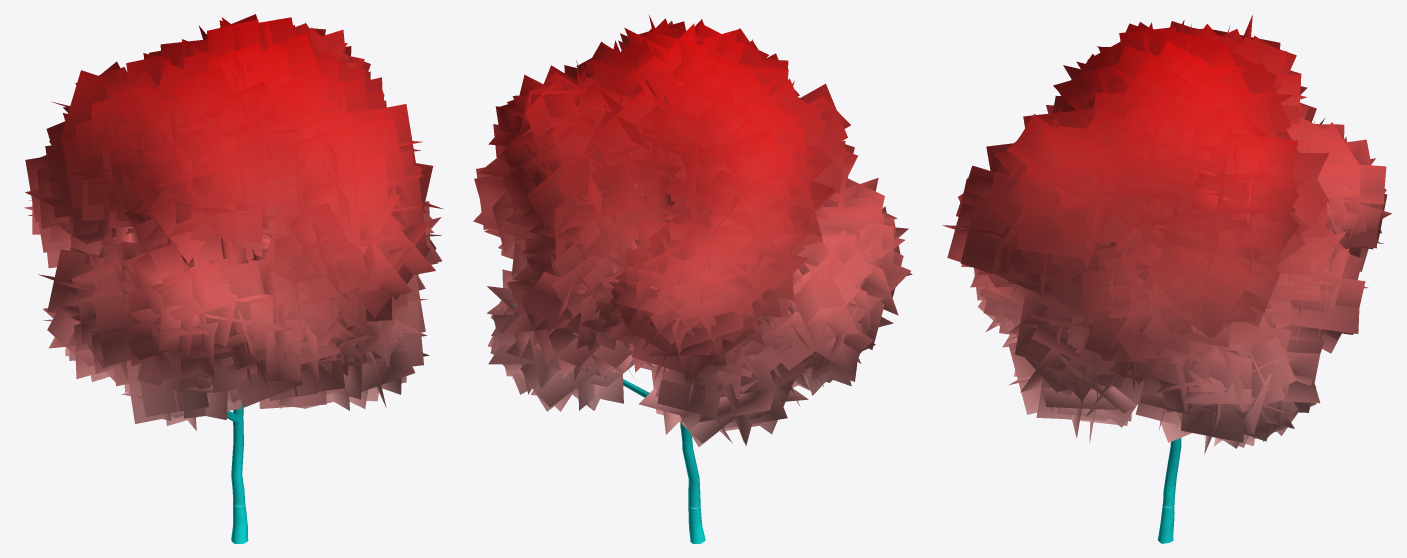
File: RetopoedHuralyaBirch1Separated.fbx
3 views of the same model, side by side, from view 1: azimuth 30°, elevation 25°; view 2: azimuth 150°, elevation 25°; view 3: azimuth 270°, elevation 25° (orthographic).
Parts seen in each view (by area): view 1: BarkAndLeaves, Stump; view 2: BarkAndLeaves; view 3: BarkAndLeaves.
Boxes of the visible parts, <box> form: BarkAndLeaves: <box>24,14,442,506</box>; Stump: <box>231,504,248,543</box>; BarkAndLeaves: <box>473,15,912,508</box>; BarkAndLeaves: <box>942,15,1391,507</box>.
Bounding box in the file's own units: 878 × 1124 × 892.
